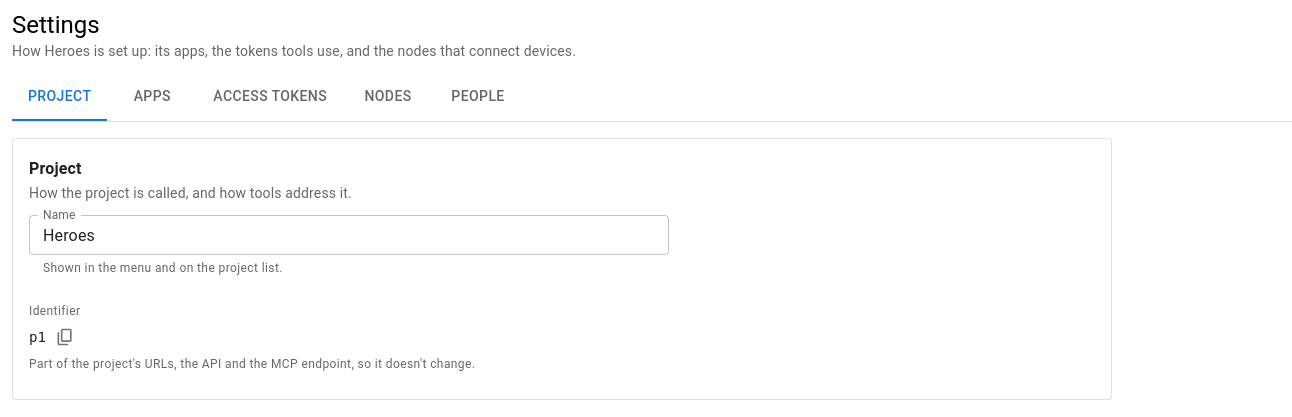
Test: Settings > Project: saves with Enter and can undo a draft
Later steps or results of the test are not shown.
Type "x" into the field labelled "Name" at (349, 235), box [29,215,669,255]
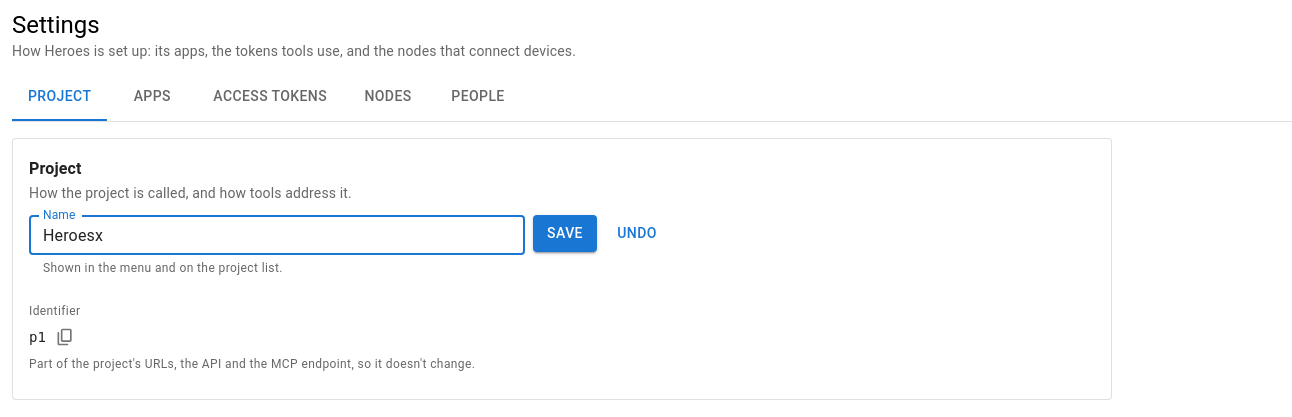
Click the button "Undo" at (637, 233), box [605,215,669,252]
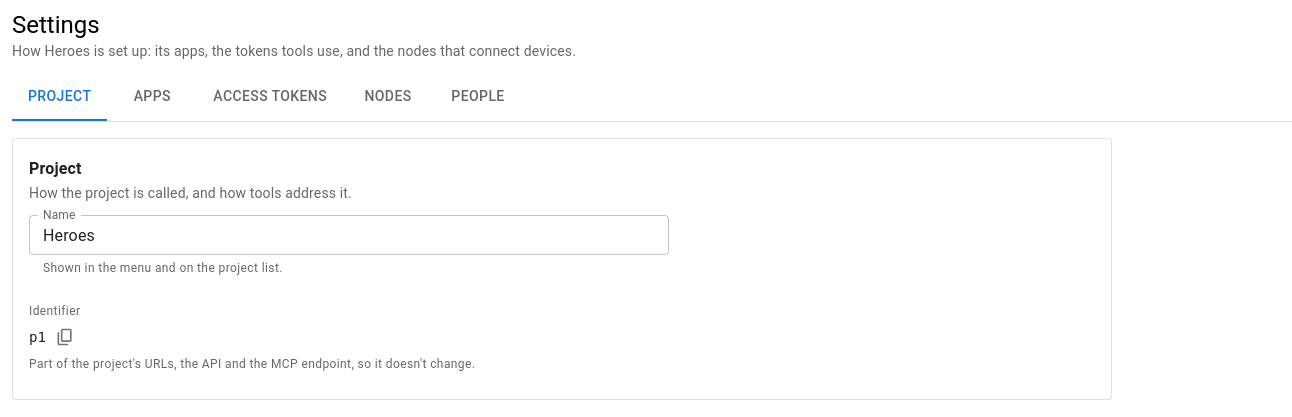
Expected: the field labelled "Name" holds "Heroes", [29,215,669,255]
